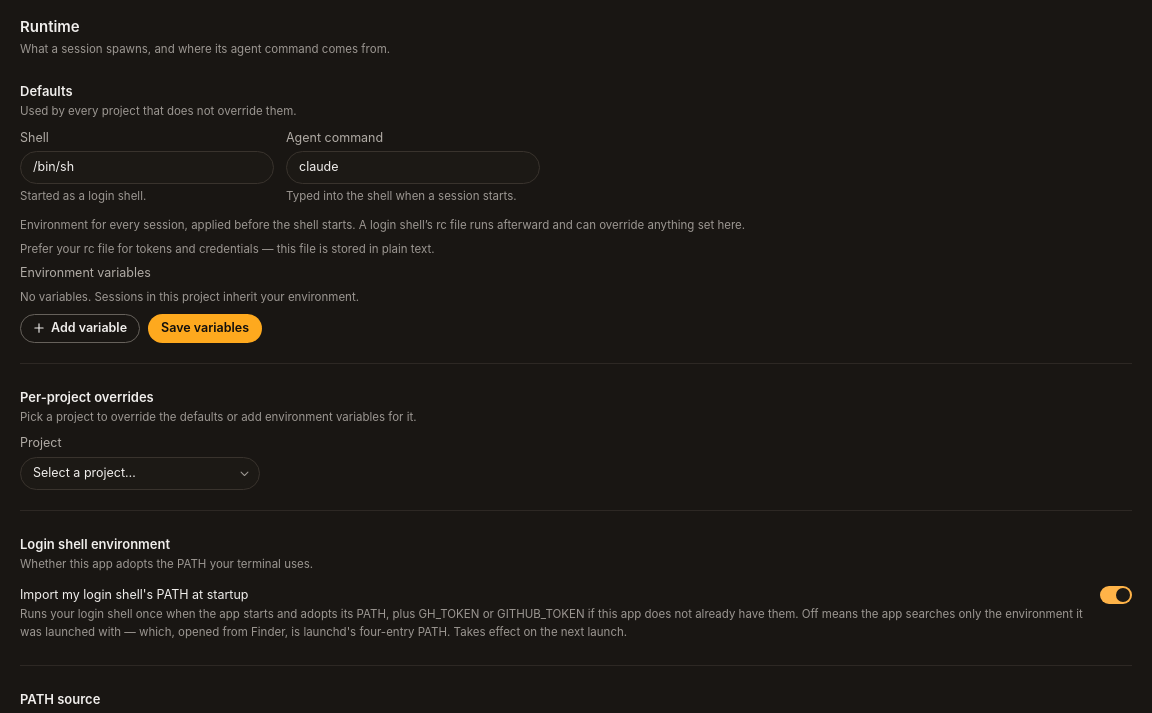
Test: RuntimeSection — the container group › renders nested, with the project’s own container fields, once one is set
Select "nova-web" in the dropdown labelled "Project" at coordinates (140, 473), box x1=20 y1=457 x2=260 y2=490
(page scrolled)
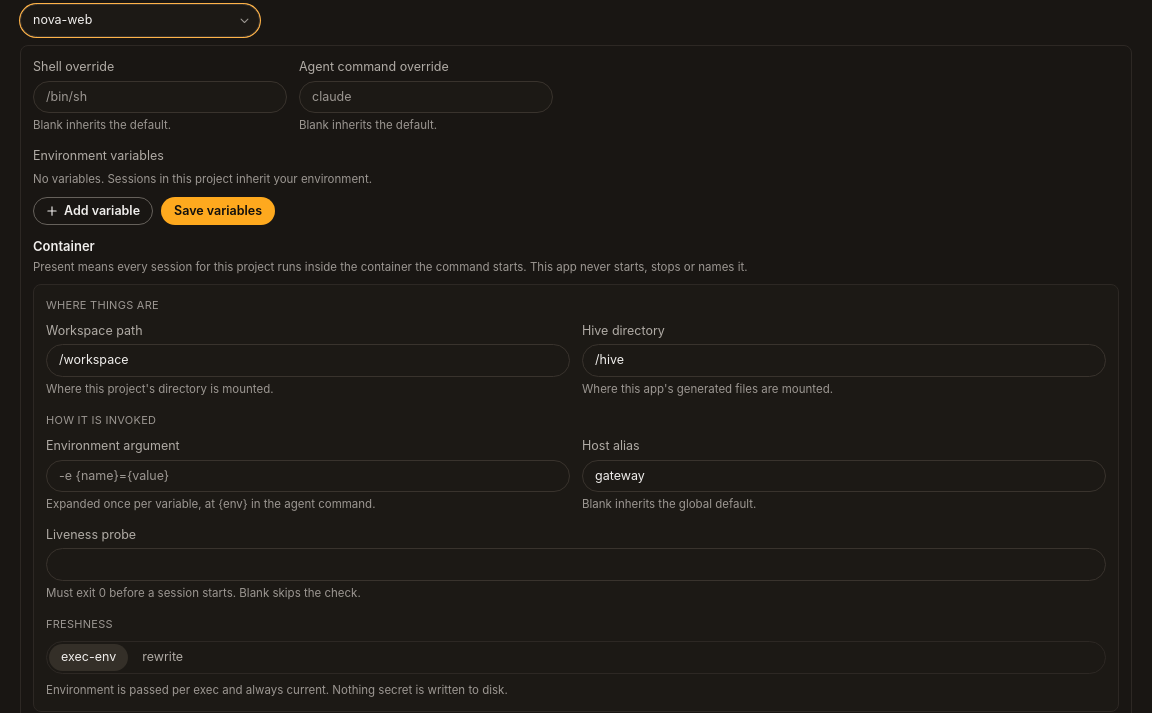
Result: the heading "Container" is shown at x1=33 y1=238 x2=95 y2=254
Result: the field labelled "Workspace path" holds "/workspace" at x1=46 y1=344 x2=570 y2=377
